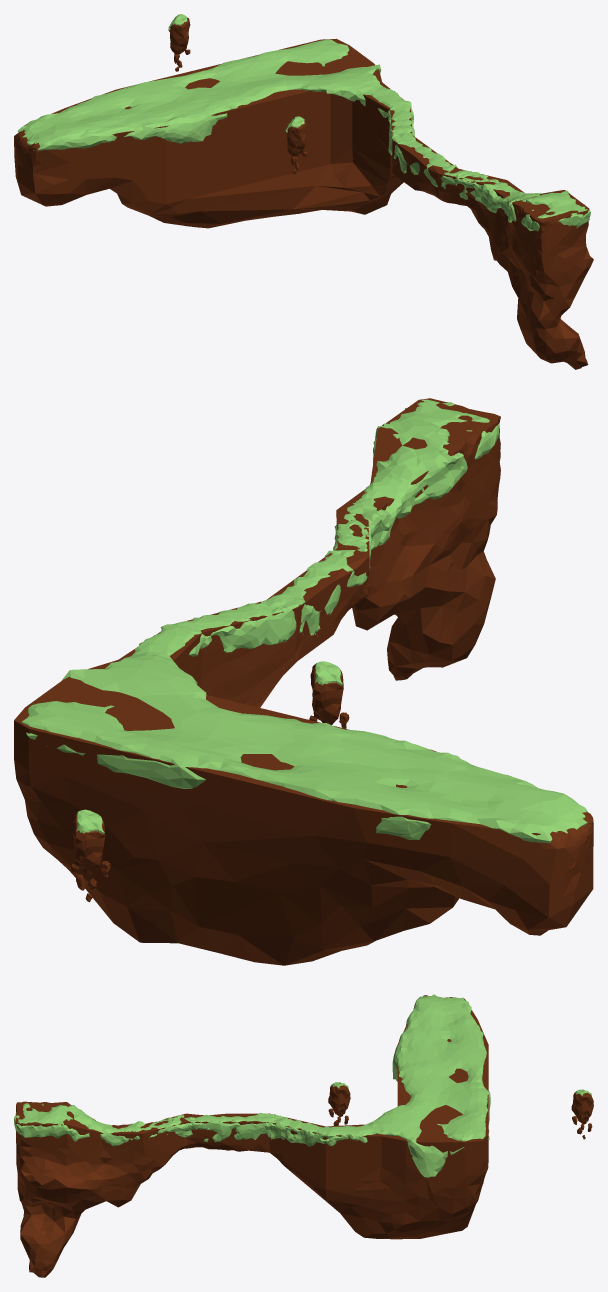
Rendered from Uno_Isola6.fbx.
3 renders of one model, top to bottom at view 1: azimuth 30°, elevation 25°; view 2: azimuth 150°, elevation 25°; view 3: azimuth 270°, elevation 25°, orthographic. The views are drawn at different scales.
Parts seen in each view (by area): view 1: Plane.009, Plane.020, Sphere.056, Sphere.112; view 2: Plane.009, Plane.020, Sphere.112, Sphere.056; view 3: Plane.009, Plane.020, Sphere.056, Sphere.112.
Part boxes in pixels (x1,y1,x2,y2): Plane.009: (14, 38, 593, 369); Plane.020: (18, 39, 590, 231); Sphere.056: (285, 120, 307, 156); Sphere.112: (168, 18, 190, 54); Plane.009: (14, 398, 593, 965); Plane.020: (21, 399, 593, 843); Sphere.112: (72, 813, 105, 874); Sphere.056: (310, 664, 343, 725); Plane.009: (16, 995, 488, 1277); Plane.020: (14, 994, 490, 1177); Sphere.056: (328, 1085, 350, 1117); Sphere.112: (571, 1093, 593, 1124).
Bounding box in the file's own units: 562 × 265 × 896.
